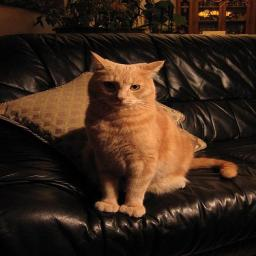catnose: (116, 95, 126, 104)
